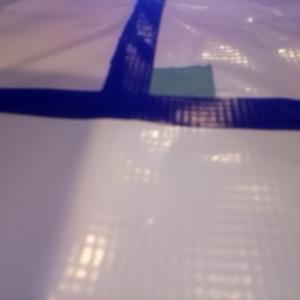top_right: (116, 63, 215, 117)
